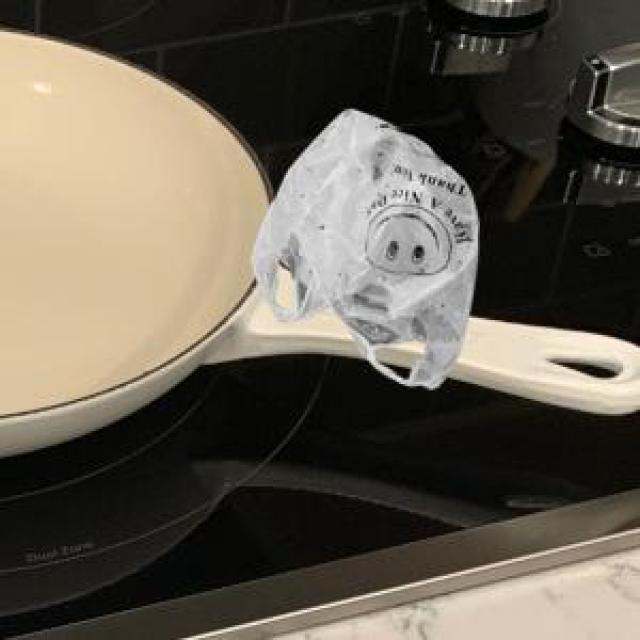waste: (255, 109, 479, 388)
